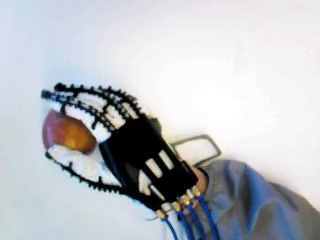apple: (41, 106, 96, 162)
hand: (39, 81, 198, 215)
